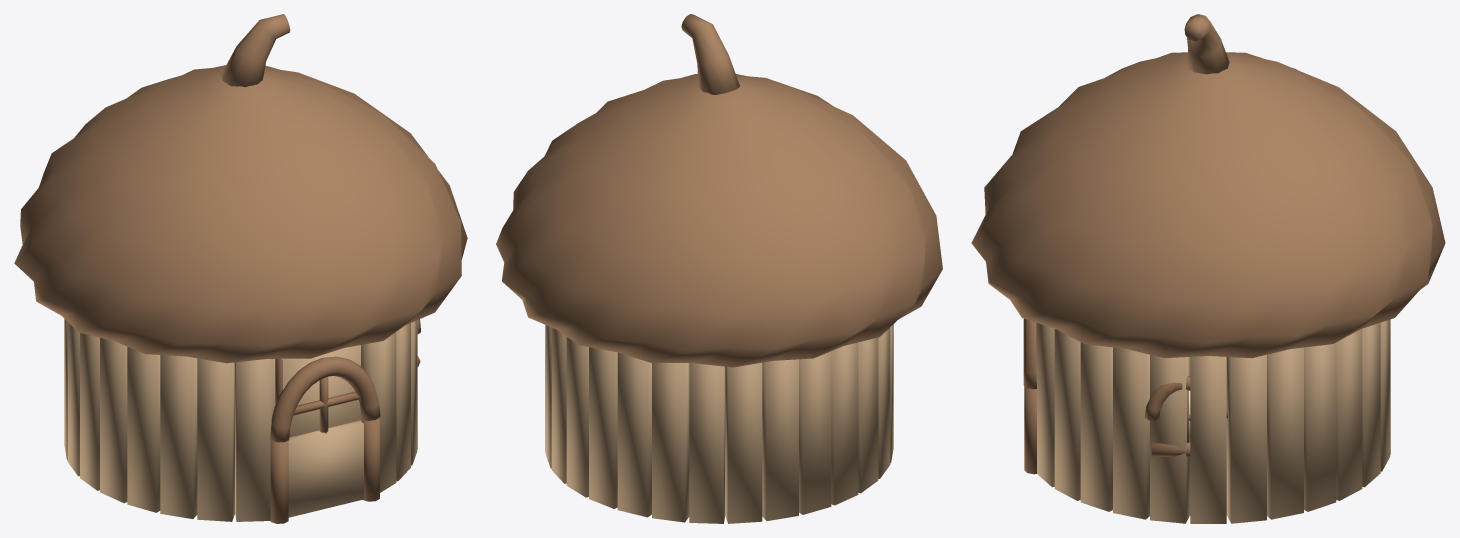
The model's file is SM_Forest_AcornCottage_V2.fbx.
3 renders of one model, left to right at view 1: azimuth 30°, elevation 25°; view 2: azimuth 150°, elevation 25°; view 3: azimuth 270°, elevation 25°, orthographic. The views are drawn at different scales.
Visible parts, largest first — view 1: SM_Forest_AcornCottage_V2; view 2: SM_Forest_AcornCottage_V2; view 3: SM_Forest_AcornCottage_V2.
Part boxes in pixels (box(x1,y1,x2,y2)): SM_Forest_AcornCottage_V2: box(14, 14, 467, 523); SM_Forest_AcornCottage_V2: box(496, 14, 942, 523); SM_Forest_AcornCottage_V2: box(971, 14, 1445, 523).
Bounding box in the file's own units: 468 × 484 × 468.
